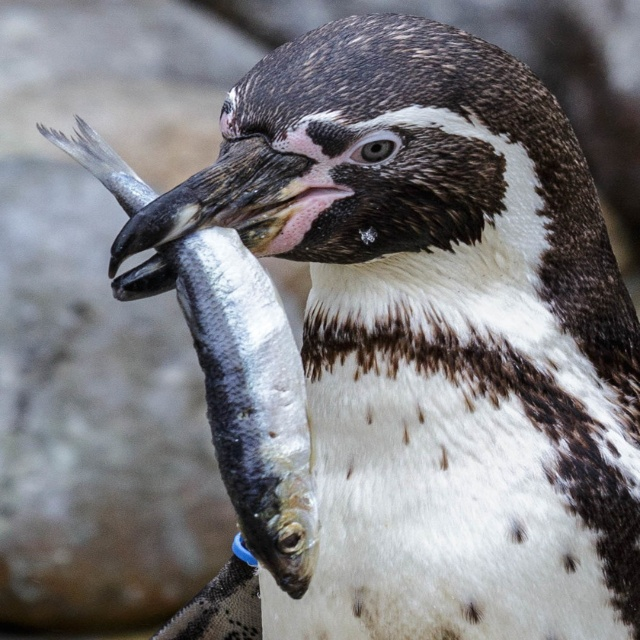Penguin: (73, 33, 640, 621)
